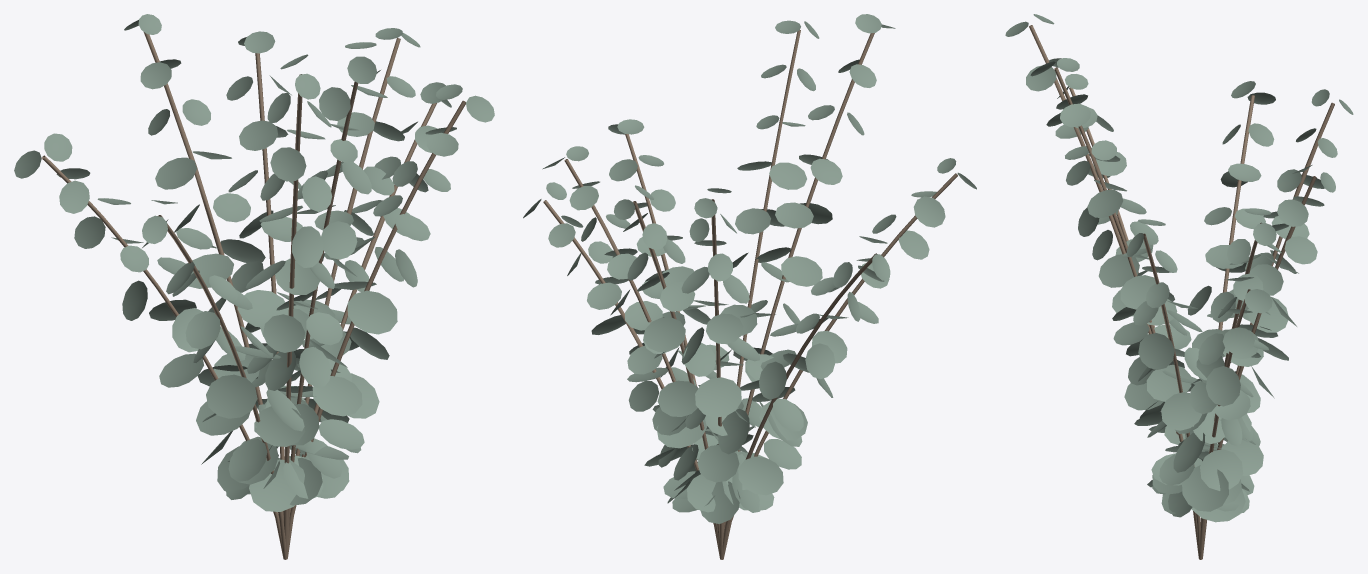
Rendered from silver-2.glb.
The picture shows the model from 3 angles, left to right: view 1: azimuth 30°, elevation 25°; view 2: azimuth 150°, elevation 25°; view 3: azimuth 270°, elevation 25°; orthographic projection. The views are drawn at different scales.
Parts seen in each view (by area): view 1: silver-leaves, silver-stems; view 2: silver-leaves, silver-stems; view 3: silver-leaves, silver-stems.
Boxes of the visible parts, x1,y1,x2,y2 form: silver-leaves: [14, 14, 494, 511]; silver-stems: [42, 32, 465, 559]; silver-leaves: [523, 14, 976, 523]; silver-stems: [543, 30, 957, 559]; silver-leaves: [1005, 14, 1353, 522]; silver-stems: [1029, 25, 1334, 559].
Size of the model in its own units: 0.4728 by 0.6218 by 0.384.
